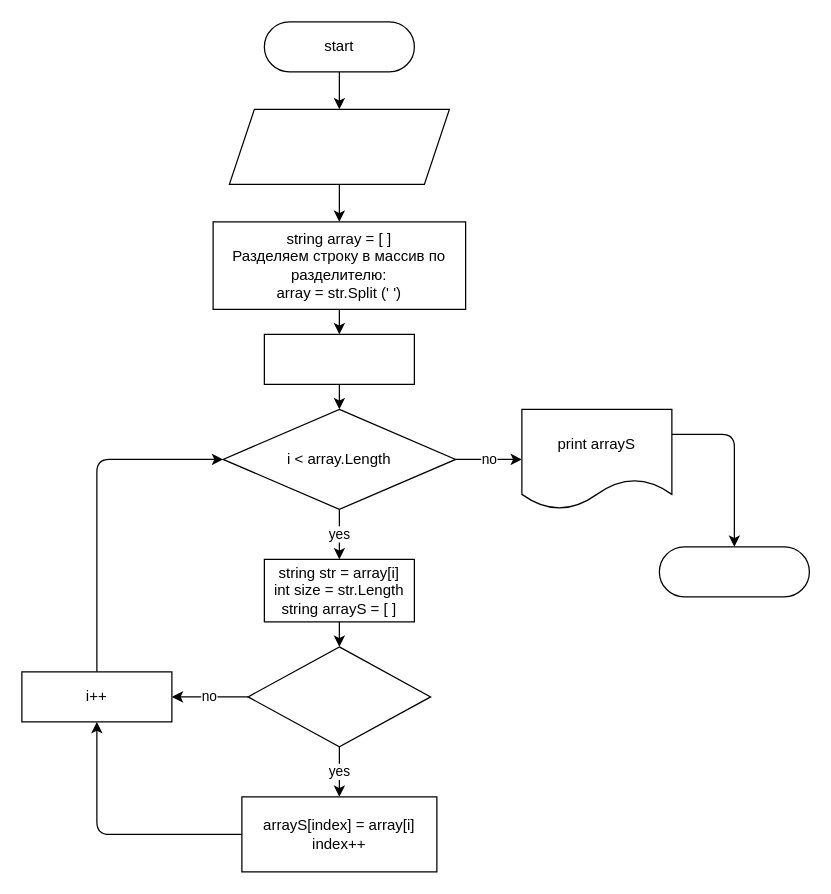
The diagram is 831 pixels wide and 894 high, and some of its shapes have lost their labels. Each missing label, with the centre of its shape:
"end" goes at [733,571].
"int i = 0 int index = 0" goes at [338,358].
"size <= 3?" goes at [339,696].
"string str" goes at [338,146].
